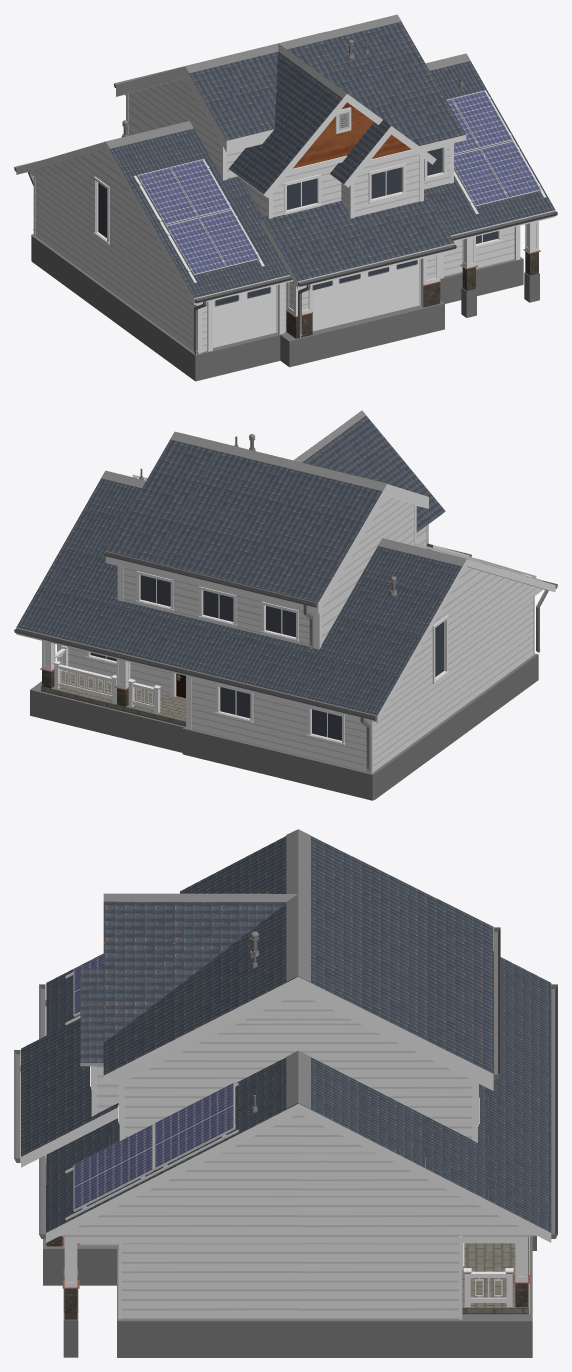
File: SuburbanHouse1_FBX.fbx
3 renders of one model, top to bottom at view 1: azimuth 30°, elevation 25°; view 2: azimuth 150°, elevation 25°; view 3: azimuth 270°, elevation 25°, orthographic. The views are drawn at different scales.
Parts seen in each view (by area): view 1: House1, SolarPanels; view 2: House1, SolarPanels; view 3: House1, SolarPanels.
Part boxes in pixels (bbox=[...]): House1: bbox=[14, 14, 557, 381]; SolarPanels: bbox=[133, 90, 546, 283]; House1: bbox=[14, 410, 557, 800]; SolarPanels: bbox=[132, 474, 541, 580]; House1: bbox=[14, 829, 557, 1357]; SolarPanels: bbox=[65, 954, 238, 1220].
Size of the model in its own units: 1753 by 1117 by 1612.
